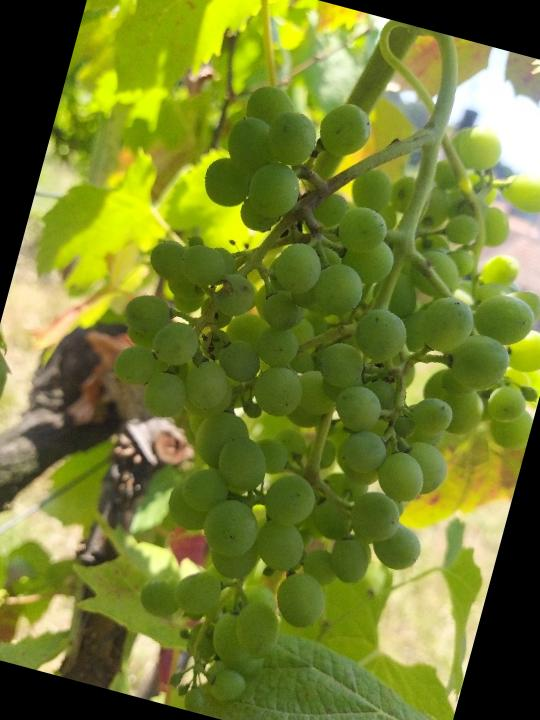grape: (29, 48, 540, 720)
